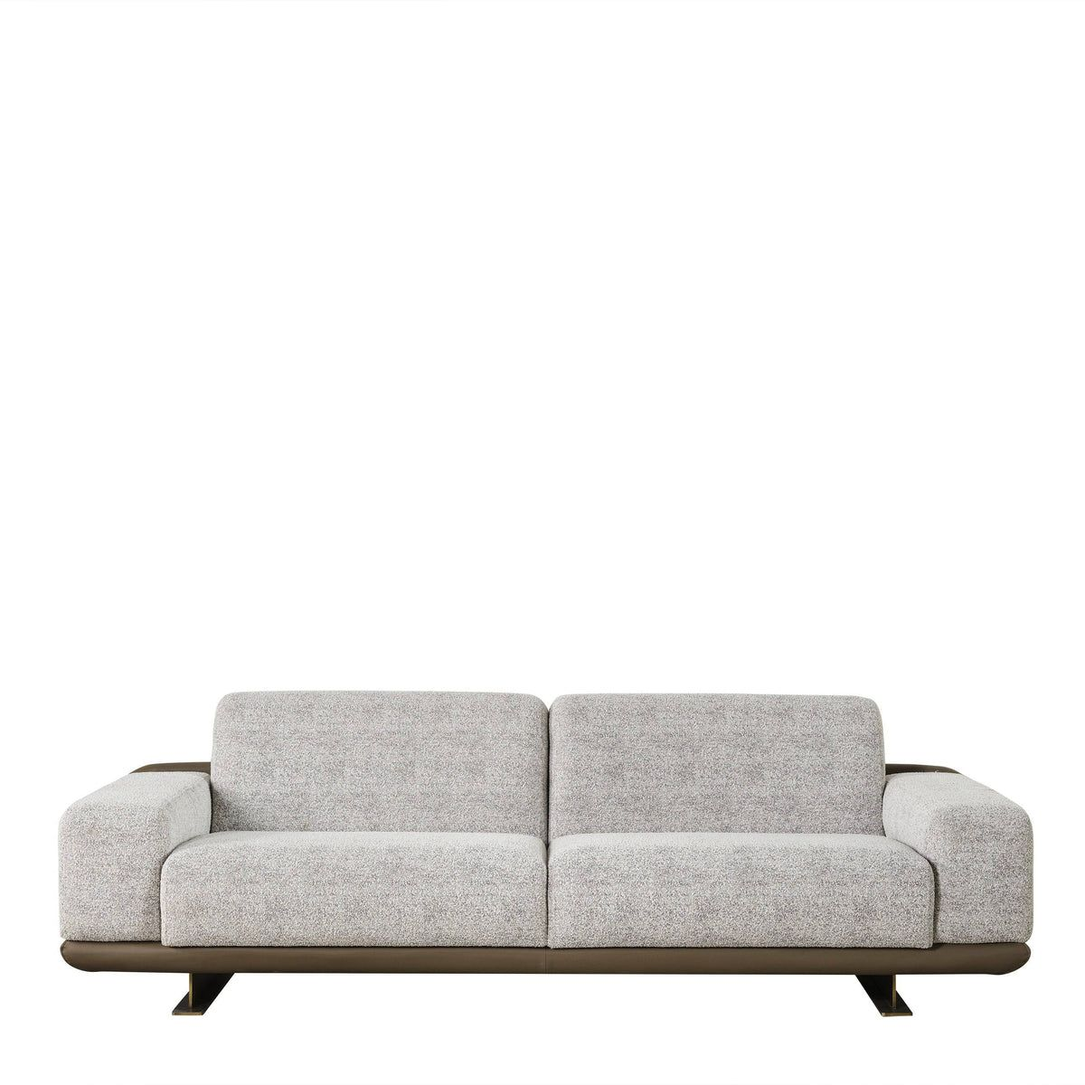3seatersofa: (59, 693, 1033, 1016)
backrest: (212, 692, 882, 837)
base: (61, 942, 1029, 974)
leftarmrest: (882, 764, 1033, 943)
leg: (173, 974, 231, 1014), (857, 976, 911, 1015)
rightarmrest: (60, 762, 209, 940)
seat: (164, 833, 934, 948)
